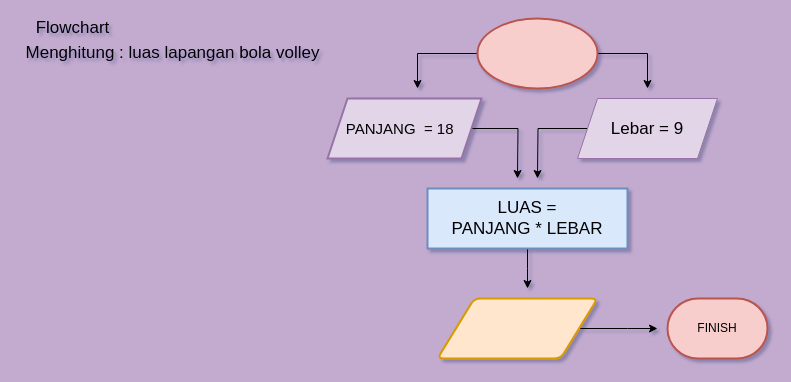
Image size: 791x382. Some labels were removed from this diagram. Each missing label, with the box of its shape:
START: (476, 17, 598, 89)
WRITE LUAS: (436, 297, 598, 359)
